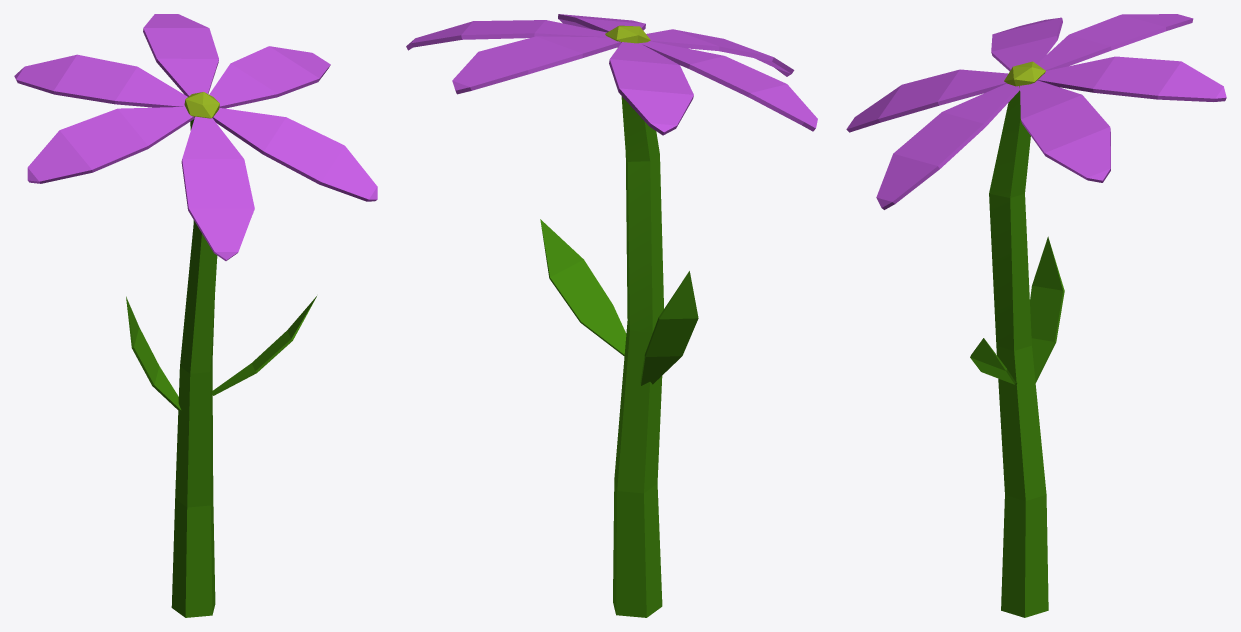
Rendered from Flower_g_a_02.fbx.
The picture shows the model from 3 angles, left to right: view 1: azimuth 30°, elevation 25°; view 2: azimuth 150°, elevation 25°; view 3: azimuth 270°, elevation 25°; orthographic projection. The views are drawn at different scales.
Parts seen in each view (by area): view 1: Flower_g_a_02_LOD0; view 2: Flower_g_a_02_LOD0; view 3: Flower_g_a_02_LOD0.
Boxes of the visible parts, x1,y1,x2,y2 form: Flower_g_a_02_LOD0: (14,14,377,617); Flower_g_a_02_LOD0: (406,14,817,617); Flower_g_a_02_LOD0: (846,14,1226,617).
Size of what is drawn, in the model's own units: 1.93 by 2.93 by 1.81.
